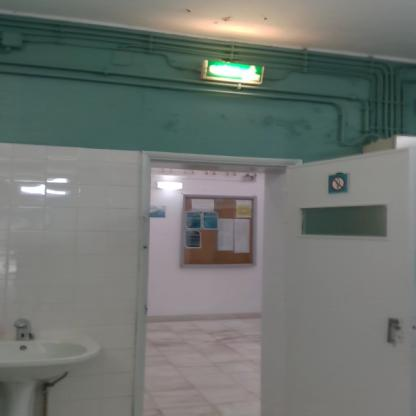open: (132, 140, 415, 416)
